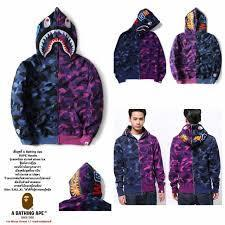sweater: (11, 8, 104, 146), (171, 8, 222, 85), (114, 8, 166, 82), (170, 124, 222, 197), (113, 127, 166, 196)
